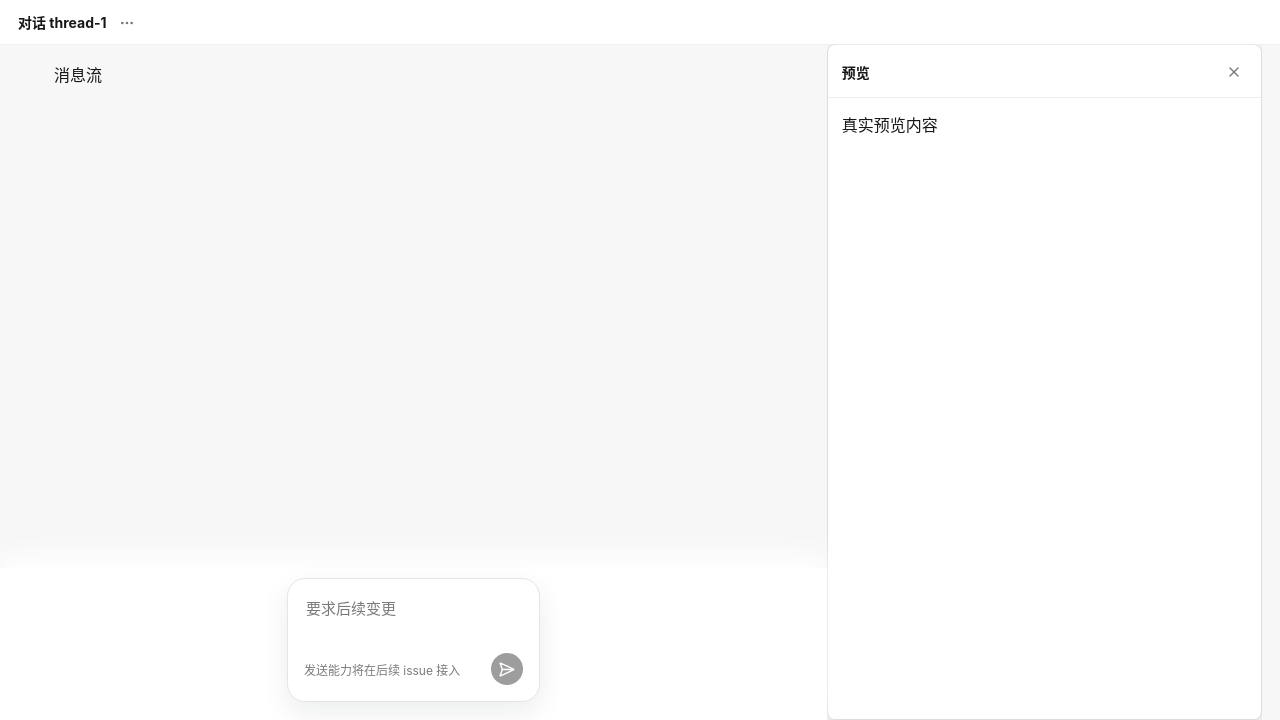
Test: ChatLayout › keeps the message flow mounted when a real preview panel is toggled
expect the element "预览" is shown: met, box [827,44,1262,719]
expect the text "消息流" is shown: met, box [54,65,102,85]
Click the button named "更多对话操作". click: (126, 23)
box: [113,10,139,36]
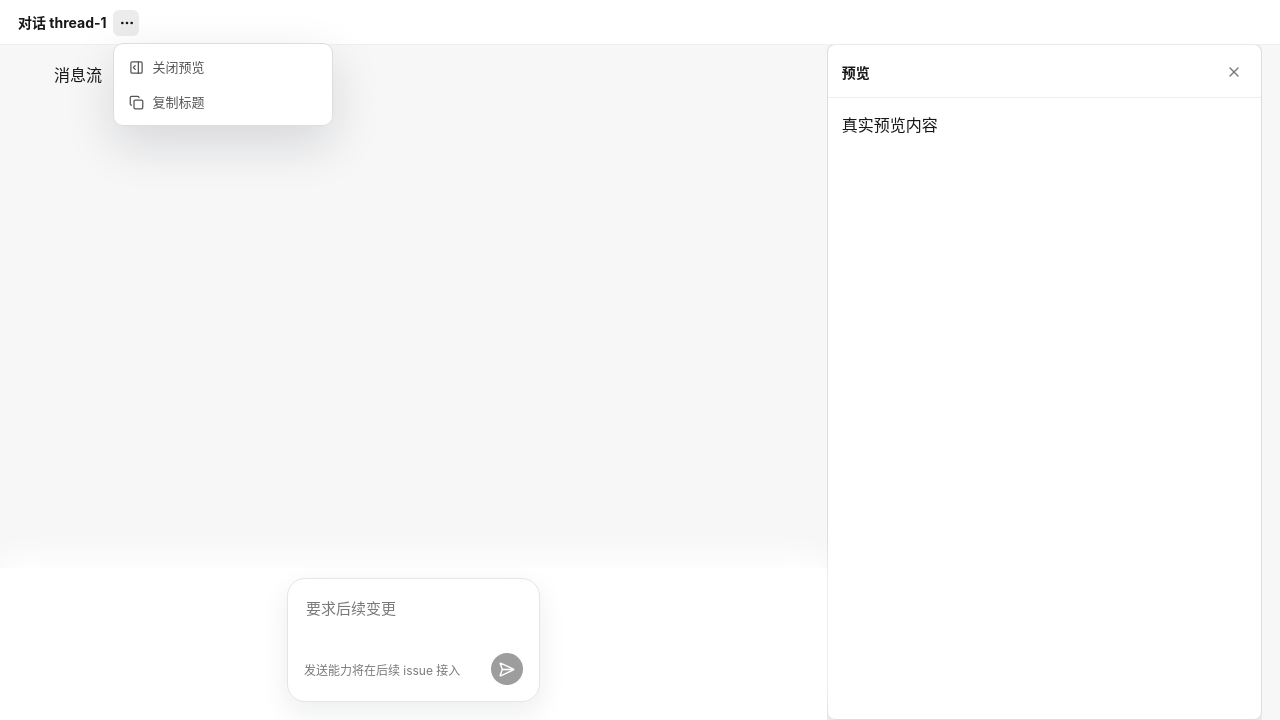
Click the menu item "关闭预览". click: (223, 67)
box: [121,51,325,83]
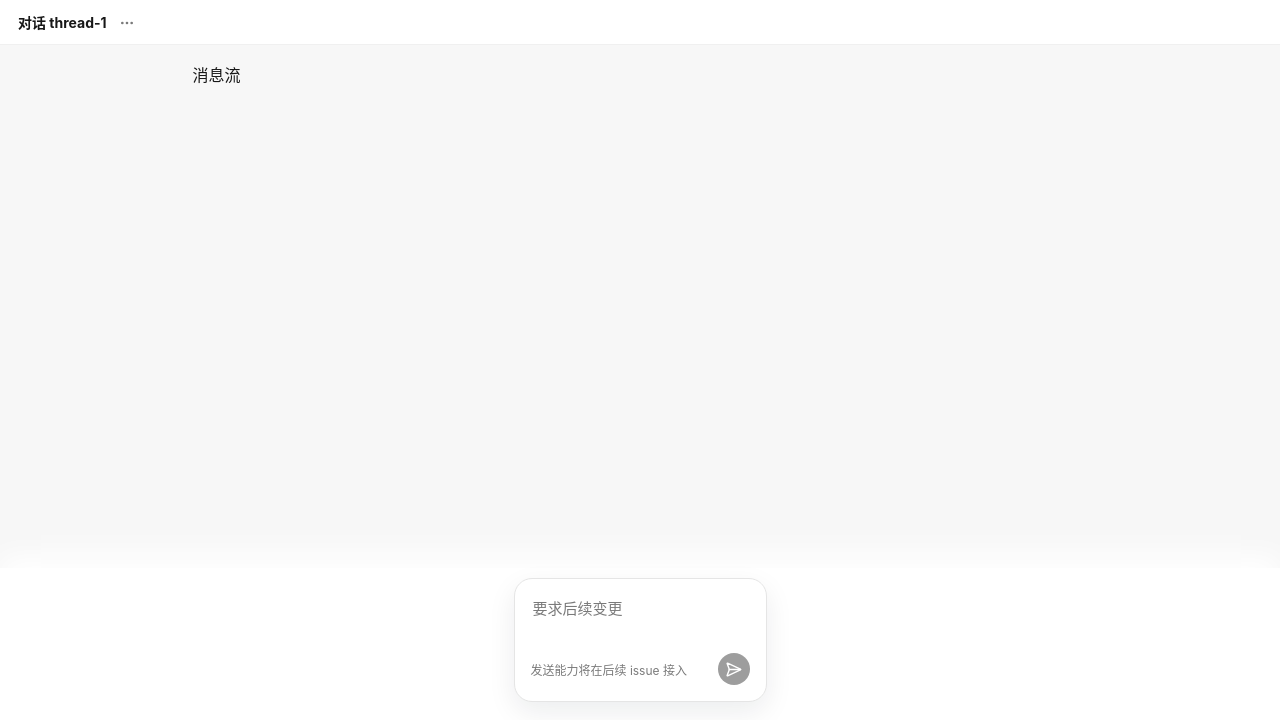
expect the menu item "预览" is gone: met
